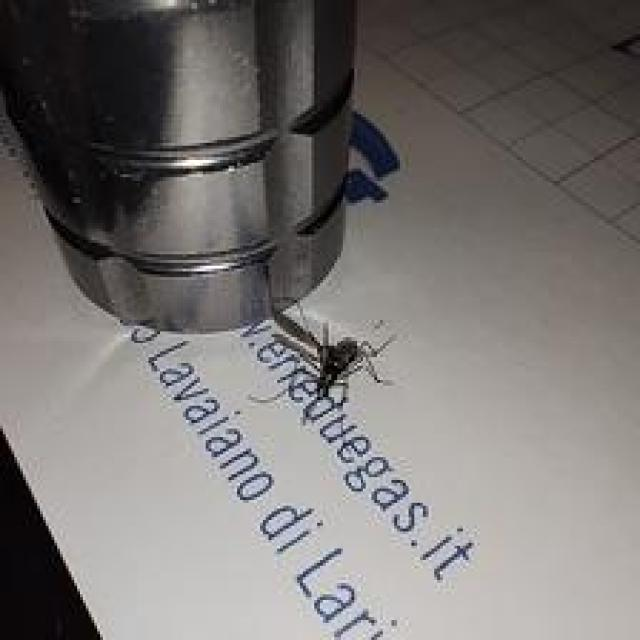Aedes albopictus: (272, 311, 397, 400)
